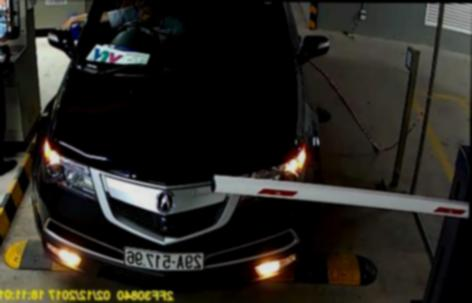License_Plate: (119, 244, 207, 272)
